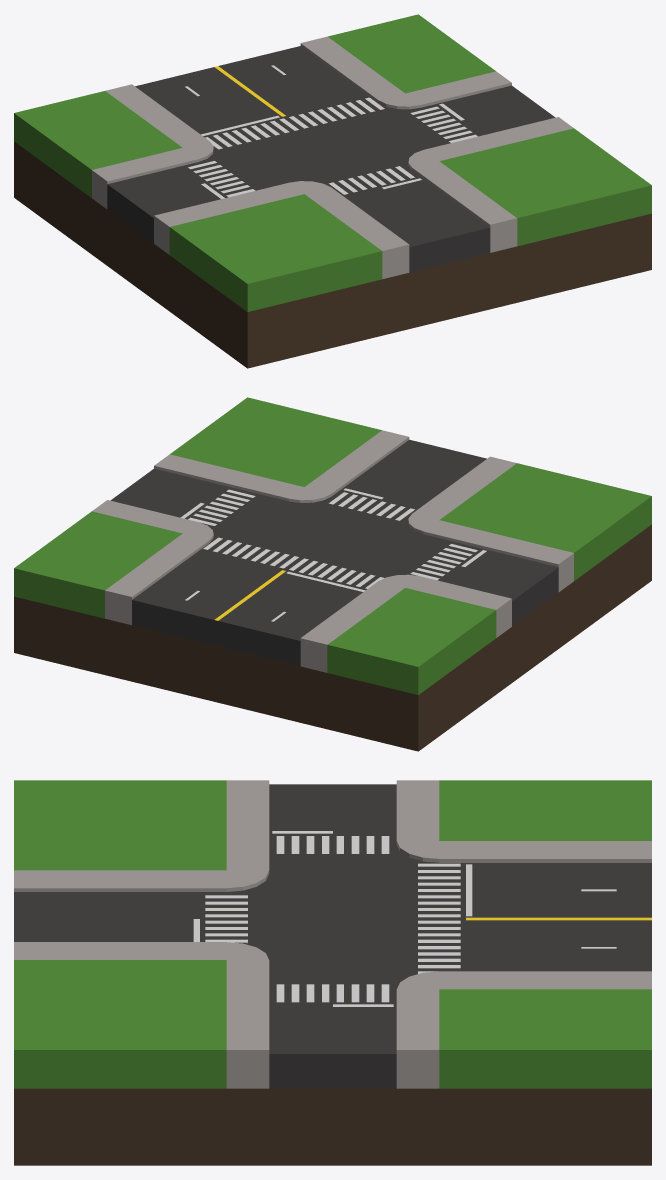
Rendered from tiles_tile-roads-mainroad-intersection.fbx.
3 views of the same model, one above another, from view 1: azimuth 30°, elevation 25°; view 2: azimuth 150°, elevation 25°; view 3: azimuth 270°, elevation 25° (orthographic). The views are drawn at different scales.
Parts seen in each view (by area): view 1: tiles_tile_roads_mainroad_intersection; view 2: tiles_tile_roads_mainroad_intersection; view 3: tiles_tile_roads_mainroad_intersection.
Part boxes in pixels (x1,y1,x2,y2): tiles_tile_roads_mainroad_intersection: (14,14,651,368); tiles_tile_roads_mainroad_intersection: (14,397,651,751); tiles_tile_roads_mainroad_intersection: (14,780,651,1165).
Bounding box in the file's own units: 200 × 40 × 200.
